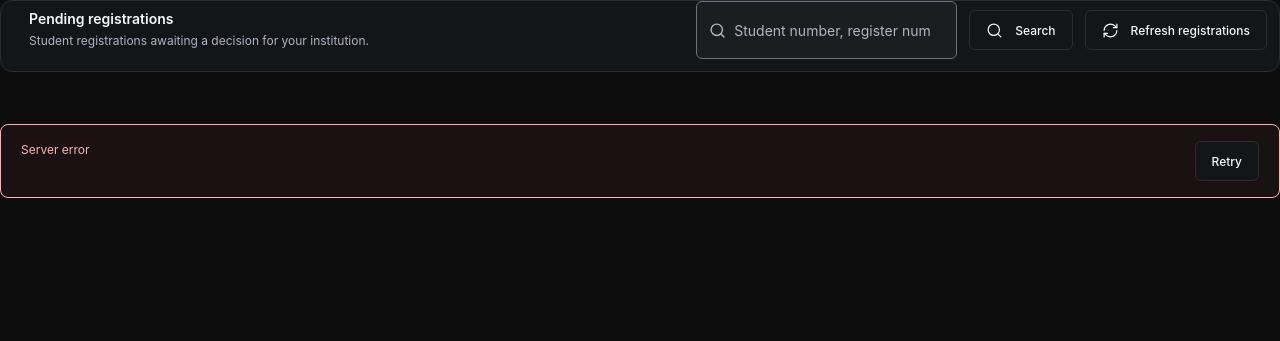
Test: AdminApprovals › surfaces a load error with retry
Check: the message shows "Server error", box [21,142,90,157]
Click the button "Retry" at (1227,161), box [1194,141,1259,181]
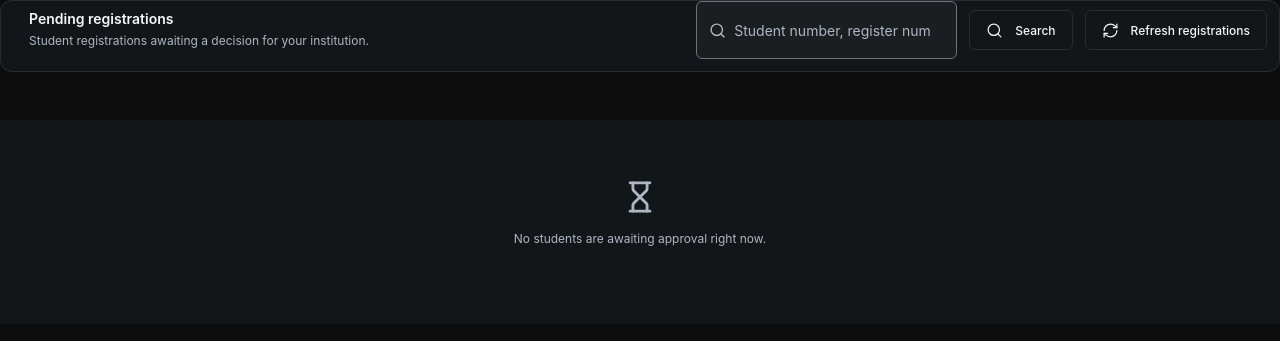
Check: the message shows "No students are awaiting approval", box [514,231,766,246]
